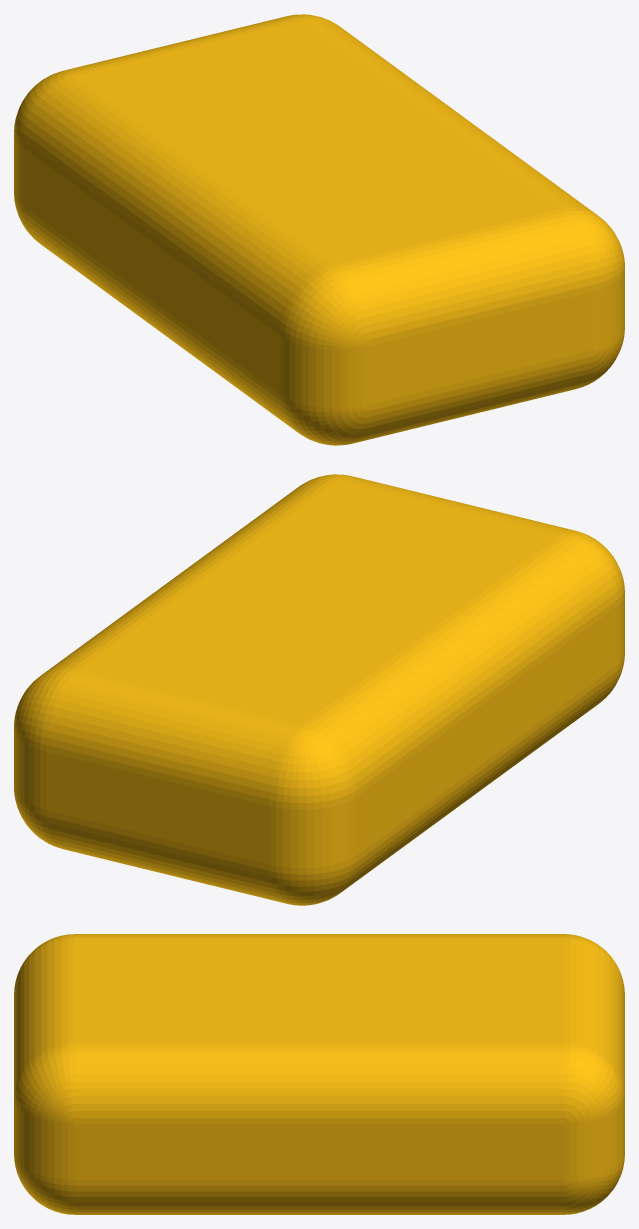
3 views of the same model, one above another, from view 1: azimuth 30°, elevation 25°; view 2: azimuth 150°, elevation 25°; view 3: azimuth 270°, elevation 25° (orthographic). The views are drawn at different scales.
Parts seen in each view (by area): view 1: 5df936c934c843155d0f1b80; view 2: 5df936c934c843155d0f1b80; view 3: 5df936c934c843155d0f1b80.
Boxes of the visible parts, <box> form: 5df936c934c843155d0f1b80: <box>14,14,624,445</box>; 5df936c934c843155d0f1b80: <box>14,474,624,905</box>; 5df936c934c843155d0f1b80: <box>14,934,624,1214</box>.
Size of the model in its own units: 0.06 by 0.1 by 0.03.
